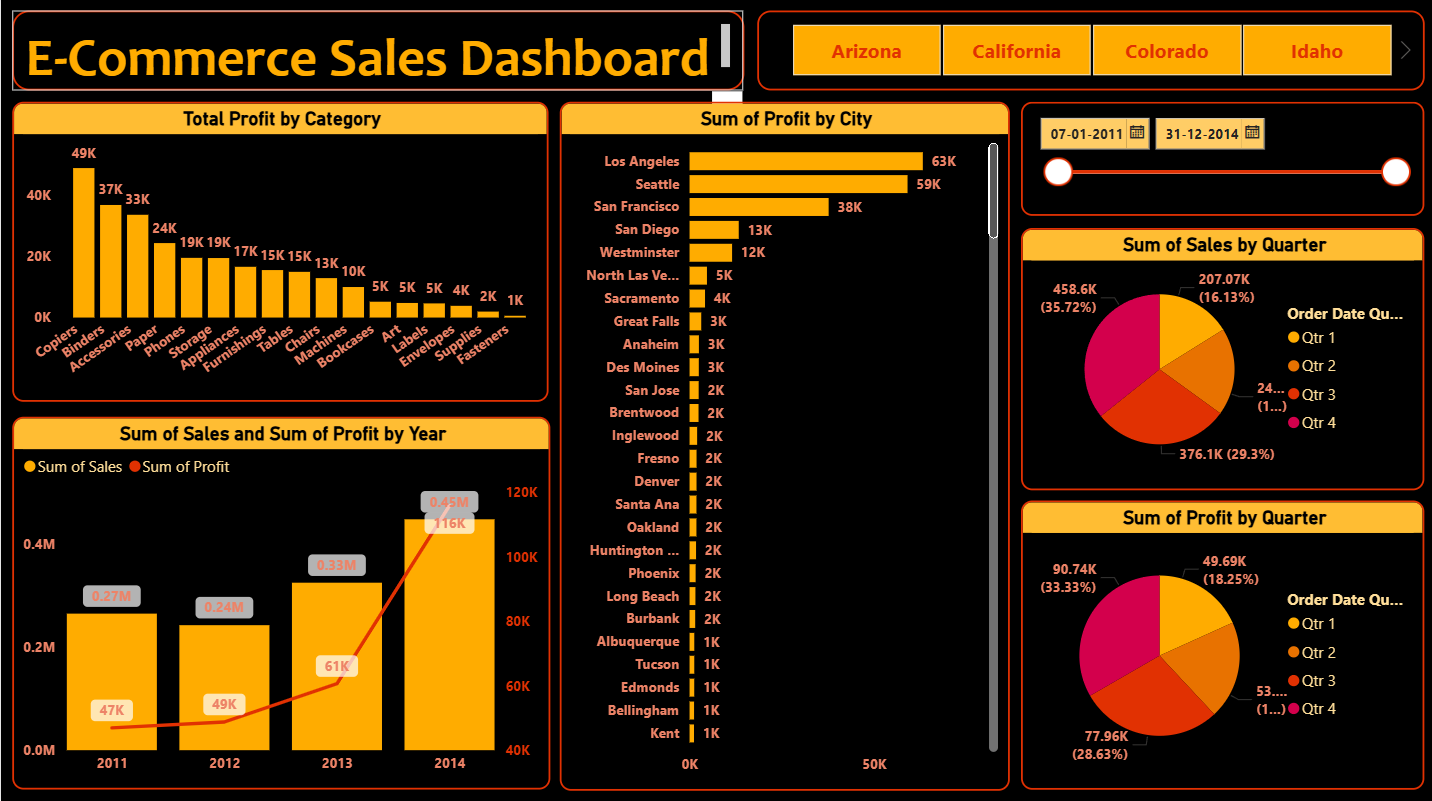

Layout of this report page (visuals, bound fields, positions):
{"tool":"powerbi","page":{"name":"Page 1","canvas":[1280,720],"ordinal":0},"visuals":[{"type":"textbox","box":[9.6,11,651.8,71.4],"z":0},{"type":"clusteredColumnChart","title":"Total Profit by Category","fields":{"Category":["Amazon.Category"],"Y":["Sum(Amazon.Profit)"]},"box":[9.6,91.9,477.5,267.6],"z":1000},{"type":"clusteredBarChart","fields":{"Category":["Amazon.City"],"Y":["Sum(Amazon.Profit)"]},"box":[498.1,91.9,400.7,613.4],"z":2000},{"type":"lineClusteredColumnComboChart","fields":{"Category":["Amazon.Order Date.Variation.Date Hierarchy.Year","Amazon.Order Date.Variation.Date Hierarchy.Quarter","Amazon.Order Date.Variation.Date Hierarchy.Month","Amazon.Order Date.Variation.Date Hierarchy.Day"],"Y":["Sum(Amazon.Sales)"],"Y2":["Sum(Amazon.Profit)"]},"box":[9.6,373.2,478.9,332.1],"z":3000},{"type":"pieChart","fields":{"Category":["Amazon.Order Date.Variation.Date Hierarchy.Quarter"],"Y":["Sum(Amazon.Profit)"]},"box":[908.4,447.3,359.5,258],"z":4000},{"type":"pieChart","fields":{"Category":["Amazon.Order Date.Variation.Date Hierarchy.Quarter"],"Y":["Sum(Amazon.Sales)"]},"box":[908.4,204.5,359.5,233.3],"z":5000},{"type":"slicer","fields":{"Values":["Amazon.Order Date"]},"box":[908.4,91.9,359.5,101.5],"z":6000},{"type":"slicer","fields":{"Values":["Amazon.State"]},"box":[673.8,11,594.2,71.4],"z":7000}]}

Visuals, with their boxes in screenshot pixels (x1, y1, x2, y2), scaled from the page's 1280x720 canvas onto the 1432x801 screenshot:
textbox: (11, 12, 740, 92)
"Total Profit by Category" clusteredColumnChart: (11, 102, 545, 400)
clusteredBarChart - Amazon.City x Sum(Amazon.Profit): (557, 102, 1006, 785)
lineClusteredColumnComboChart - Amazon.Order Date.Variation.Date Hierarchy.Year x Amazon.Order Date.Variation.Date Hierarchy.Quarter: (11, 415, 547, 785)
pieChart - Amazon.Order Date.Variation.Date Hierarchy.Quarter x Sum(Amazon.Profit): (1016, 498, 1418, 785)
pieChart - Amazon.Order Date.Variation.Date Hierarchy.Quarter x Sum(Amazon.Sales): (1016, 228, 1418, 487)
slicer - Amazon.Order Date: (1016, 102, 1418, 215)
slicer - Amazon.State: (754, 12, 1419, 92)
